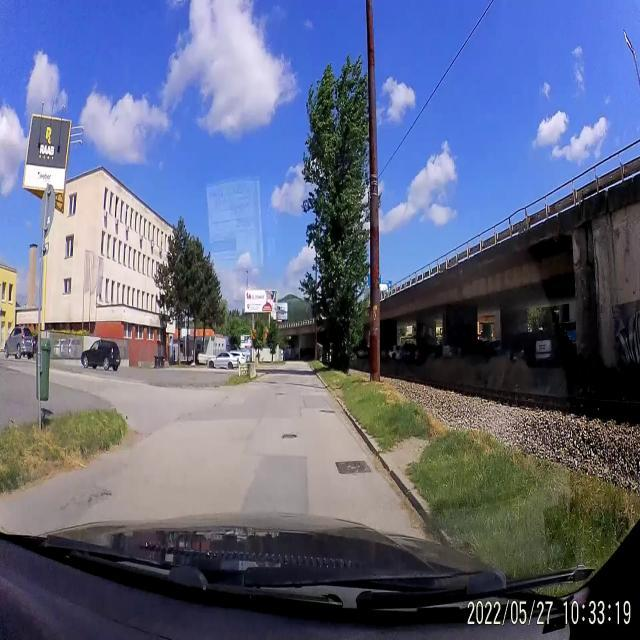Manhole: (333, 454, 372, 478)
Pothole: (66, 486, 112, 511), (281, 431, 298, 444)
